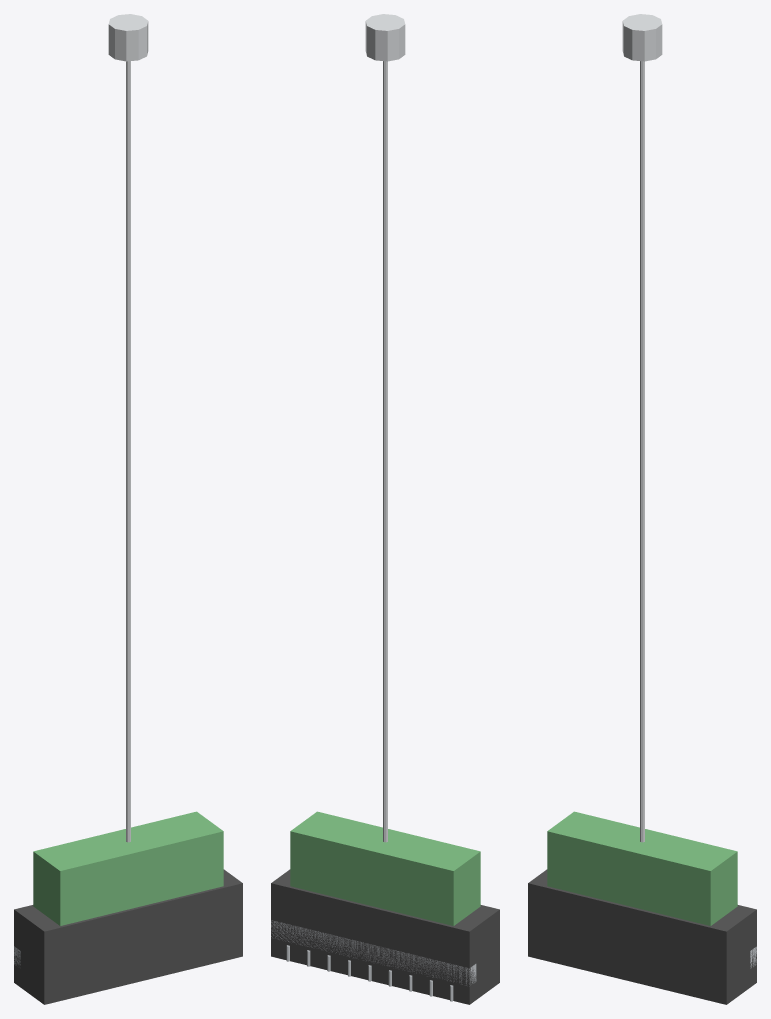
File: bunker_rake.glb
3 renders of one model, left to right at view 1: azimuth 30°, elevation 25°; view 2: azimuth 150°, elevation 25°; view 3: azimuth 330°, elevation 25°, orthographic.
Parts seen in each view (by area): view 1: BunkerRakeBot; view 2: BunkerRakeBot; view 3: BunkerRakeBot.
Part boxes in pixels (box(x1,y1,x2,y2)): BunkerRakeBot: box(14, 14, 242, 1004); BunkerRakeBot: box(271, 14, 499, 1004); BunkerRakeBot: box(528, 14, 756, 1004).
Bounding box in the file's own units: 0.34 × 1.55 × 0.0935.
